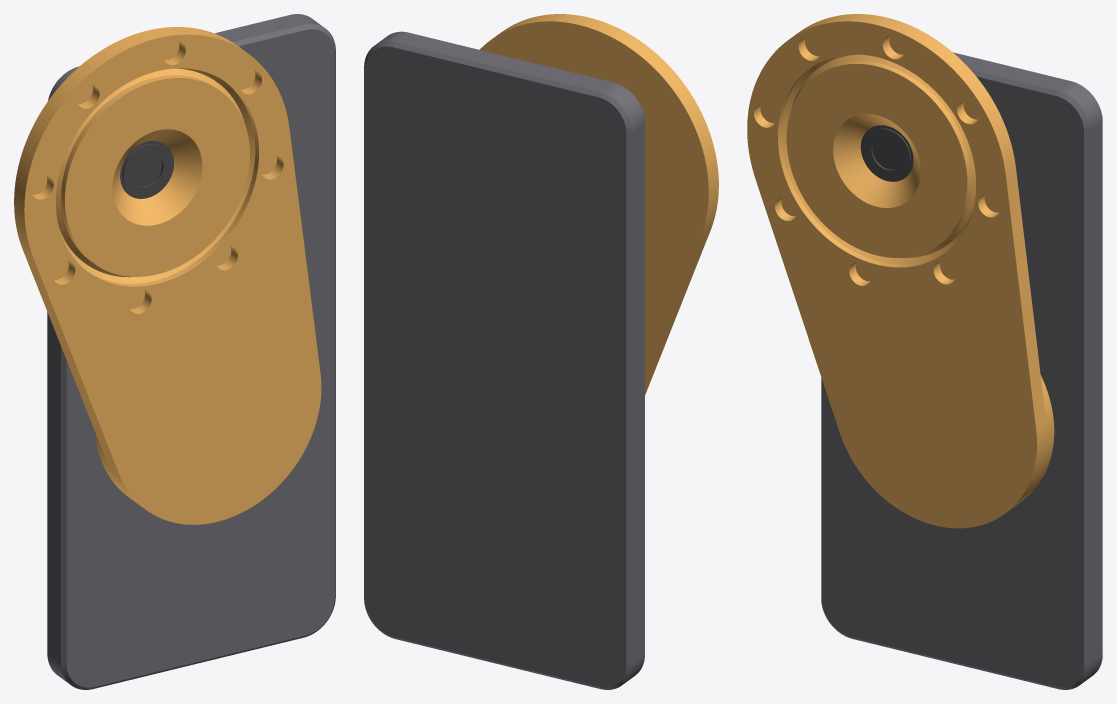
File: samling_OP13_adapter.glb
3 views of the same model, side by side, from view 1: azimuth 30°, elevation 25°; view 2: azimuth 150°, elevation 25°; view 3: azimuth 330°, elevation 25° (orthographic). The views are drawn at different scales.
Visible parts, largest first — view 1: Adapter, OnePlus 13; view 2: OnePlus 13, Adapter; view 3: Adapter, OnePlus 13.
Part boxes in pixels (x1=…): Adapter: x1=14, y1=27, x2=321, y2=524; OnePlus 13: x1=47, y1=14, x2=335, y2=689; OnePlus 13: x1=364, y1=31, x2=644, y2=689; Adapter: x1=479, y1=14, x2=718, y2=394; Adapter: x1=747, y1=14, x2=1054, y2=528; OnePlus 13: x1=821, y1=52, x2=1102, y2=689.
Bounding box in the file's own units: 92.1 × 174 × 17.
2 materials, 1 textured.
